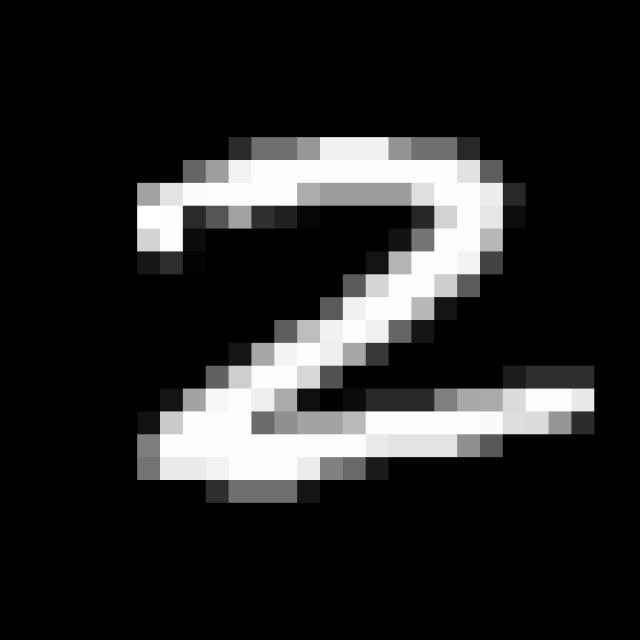two -2-: (110, 123, 609, 481)
